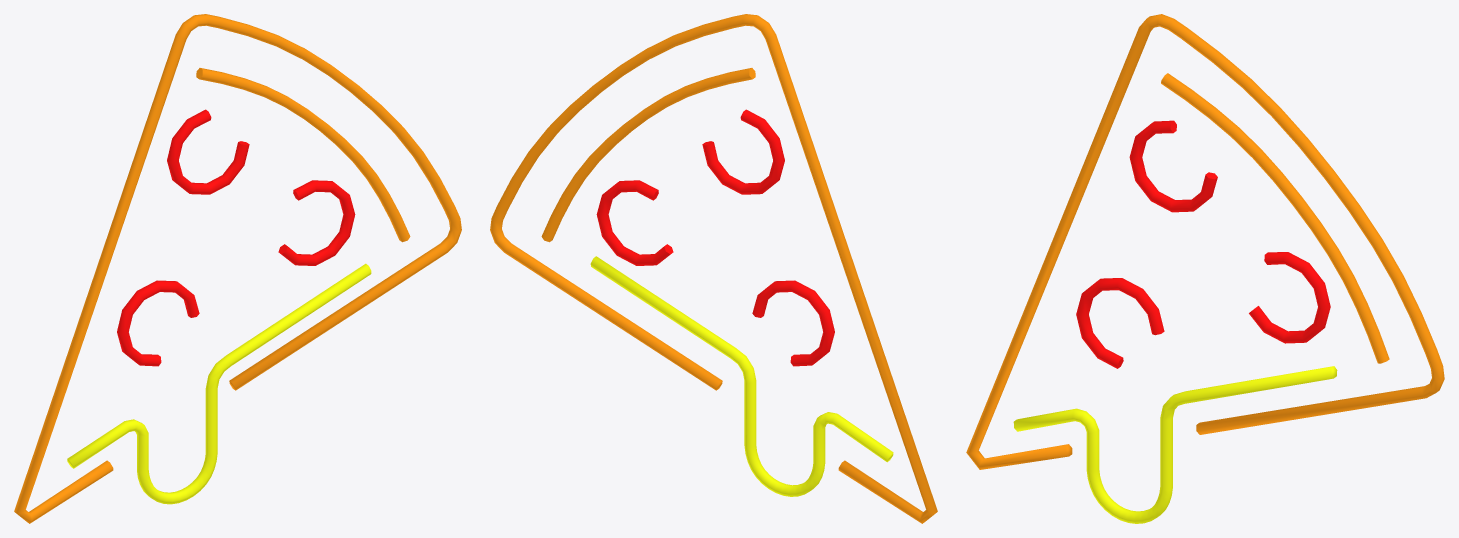
The model's file is 59d48f21-0f71-4b94-8fac-8b62cf152d0f.glb.
3 renders of one model, left to right at view 1: azimuth 30°, elevation 25°; view 2: azimuth 150°, elevation 25°; view 3: azimuth 330°, elevation 25°, orthographic. The views are drawn at different scales.
Visible parts, largest first — view 1: PizzaSlice - 1092 tris; view 2: PizzaSlice - 1092 tris; view 3: PizzaSlice - 1092 tris.
Boxes of the visible parts, x1=… form: PizzaSlice - 1092 tris: x1=14, y1=14, x2=461, y2=523; PizzaSlice - 1092 tris: x1=490, y1=14, x2=937, y2=523; PizzaSlice - 1092 tris: x1=966, y1=14, x2=1444, y2=523.
Size of the model in its own units: 0.6462 by 0.661 by 0.0278.
Materials: 1 (1 with a texture image).
